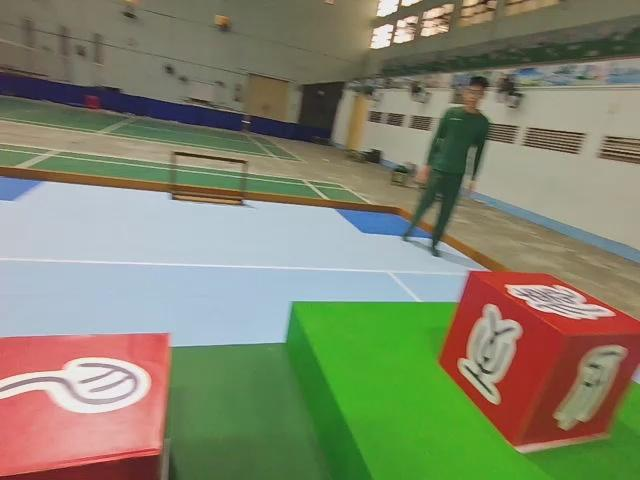R2 Fake: (436, 269, 640, 450), (0, 328, 173, 480)
